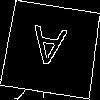A: (26, 25, 68, 76)
